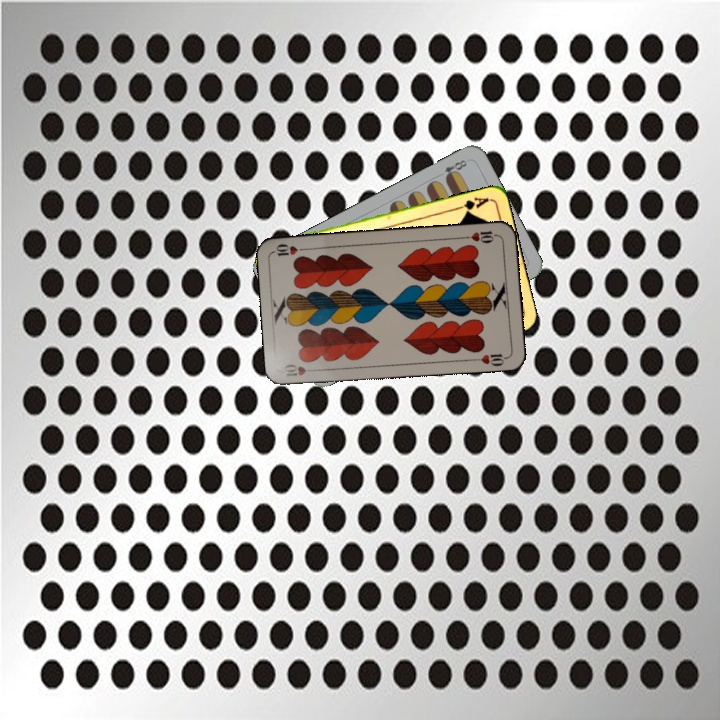E8: (440, 155, 471, 182)
GA: (452, 193, 491, 216)
H10: (280, 360, 321, 379), (460, 227, 500, 246)
